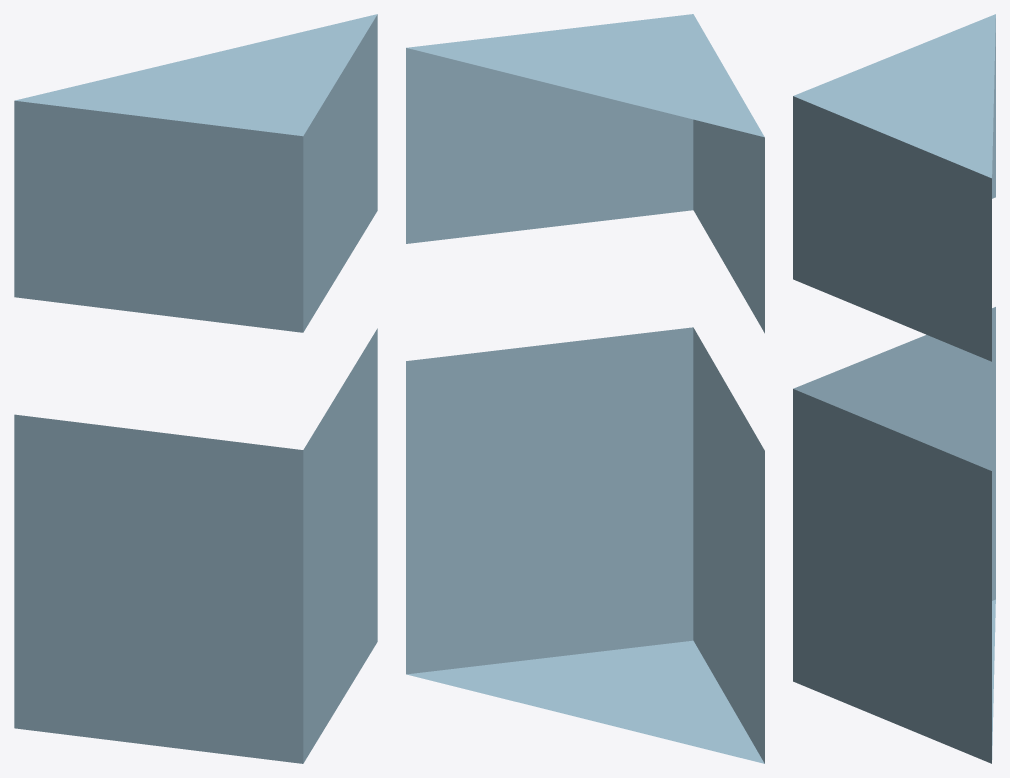
Rendered from FairyTale230.gltf.
3 views of the same model, side by side, from view 1: azimuth 30°, elevation 25°; view 2: azimuth 150°, elevation 25°; view 3: azimuth 270°, elevation 25° (orthographic). The views are drawn at different scales.
Parts seen in each view (by area): view 1: 网格.278_3; view 2: 网格.278_3; view 3: 网格.278_3.
Boxes of the visible parts, x1,y1,x2,y2 form: 网格.278_3: [14, 14, 377, 763]; 网格.278_3: [406, 14, 764, 763]; 网格.278_3: [793, 14, 995, 763].
Bounding box in the file's own units: 0.5795 × 0.9618 × 0.302.
